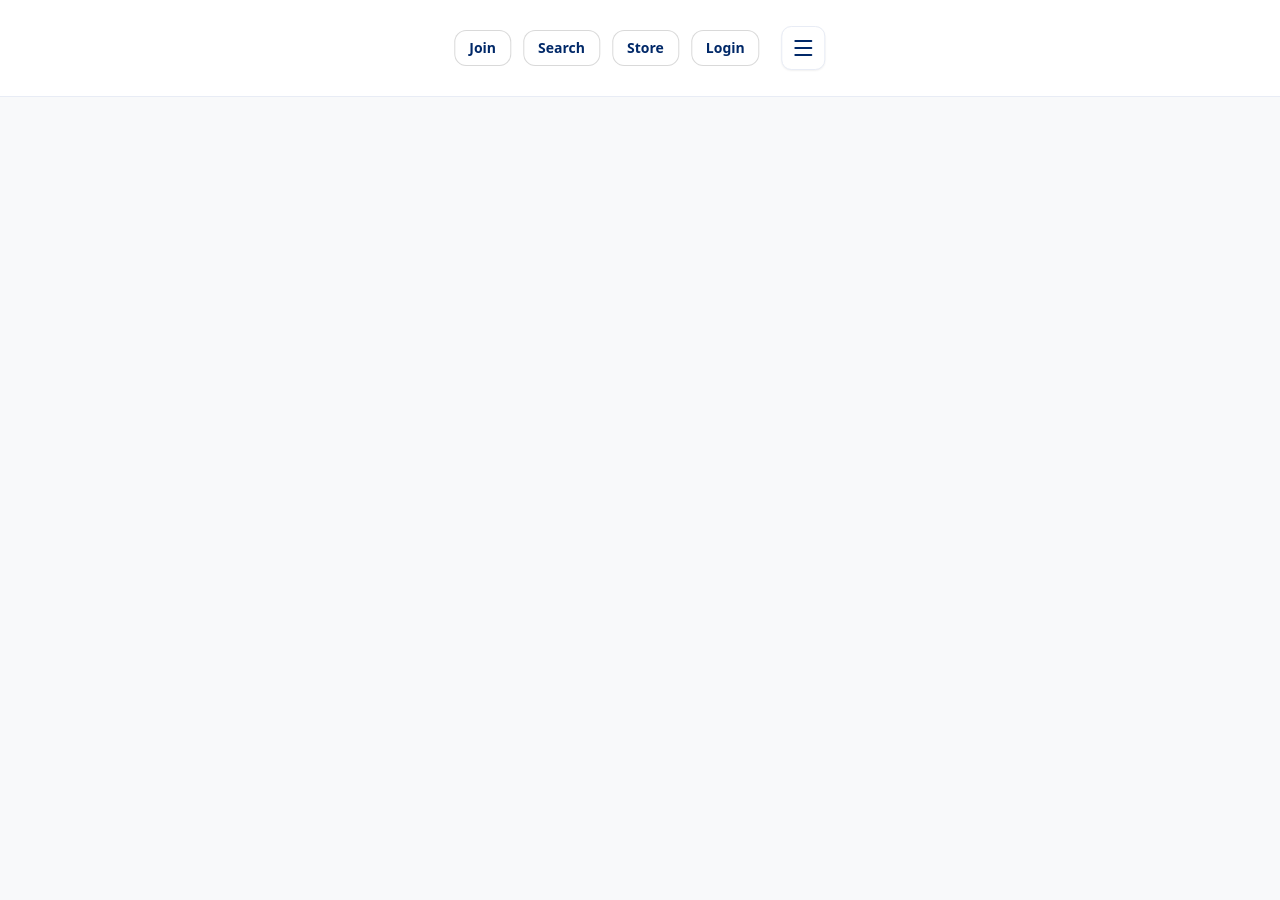
Test: Header mobile navigation wiring › opens guest hamburger drawer when logged out
Step 1. Click the button named "Open menu" → (804, 48), box [782, 26, 826, 70]
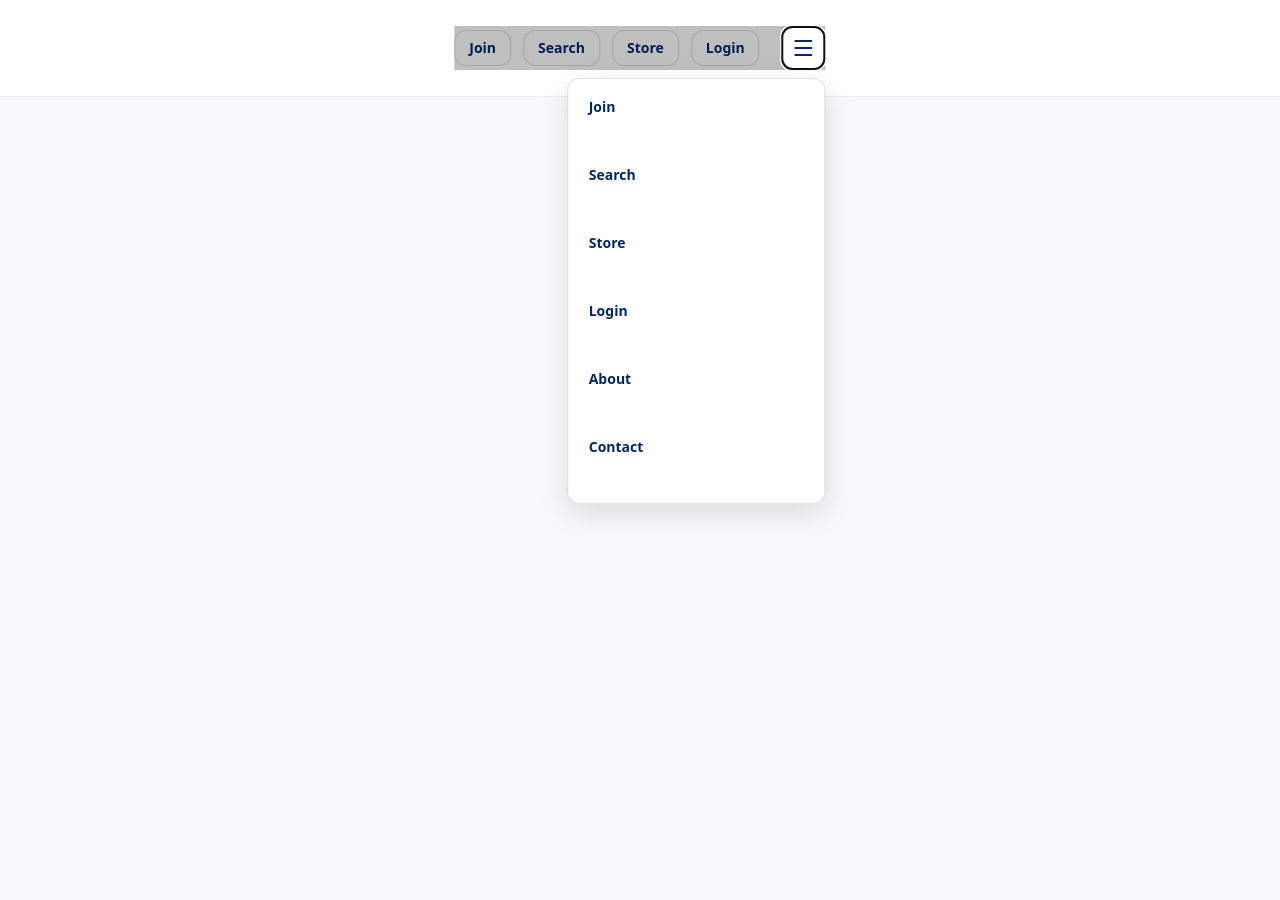
Expected: the 2nd link "Join" is shown, [589, 97, 616, 116]
Expected: the 2nd link "Login" is shown, [589, 301, 628, 320]
Expected: the links read "Join", "Search", "Store", "Login", "About", "Contact", in this order, [589, 97, 616, 116]; [589, 165, 636, 184]; [589, 233, 626, 252]; [589, 301, 628, 320]; [589, 369, 631, 388]; [589, 437, 643, 456]
